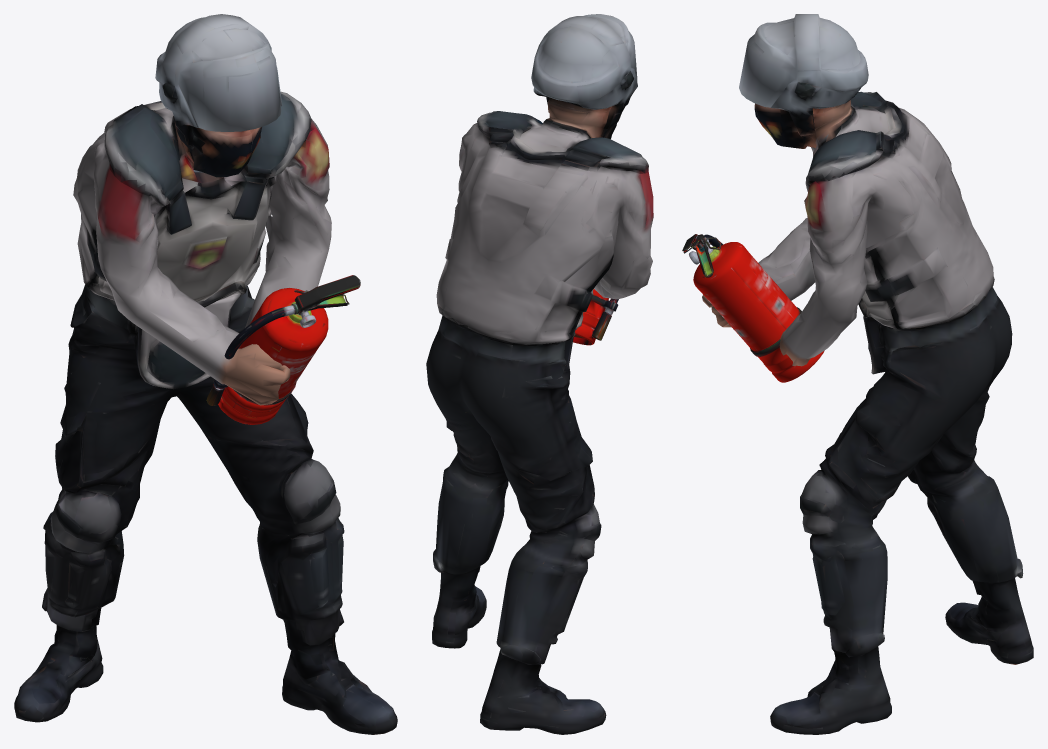
File: samapta_apar_idle.glb
3 views of the same model, side by side, from view 1: azimuth 30°, elevation 25°; view 2: azimuth 150°, elevation 25°; view 3: azimuth 270°, elevation 25° (orthographic). The views are drawn at different scales.
Visible parts, largest first — view 1: tripo_node_60fe8cd5; view 2: tripo_node_60fe8cd5; view 3: tripo_node_60fe8cd5.
Part boxes in pixels (x1=…): tripo_node_60fe8cd5: x1=14, y1=14, x2=397, y2=734; tripo_node_60fe8cd5: x1=426, y1=14, x2=653, y2=734; tripo_node_60fe8cd5: x1=682, y1=14, x2=1033, y2=734.
Size of the model in its own units: 37.15 by 94.19 by 46.23.
2 materials, 2 textured.
